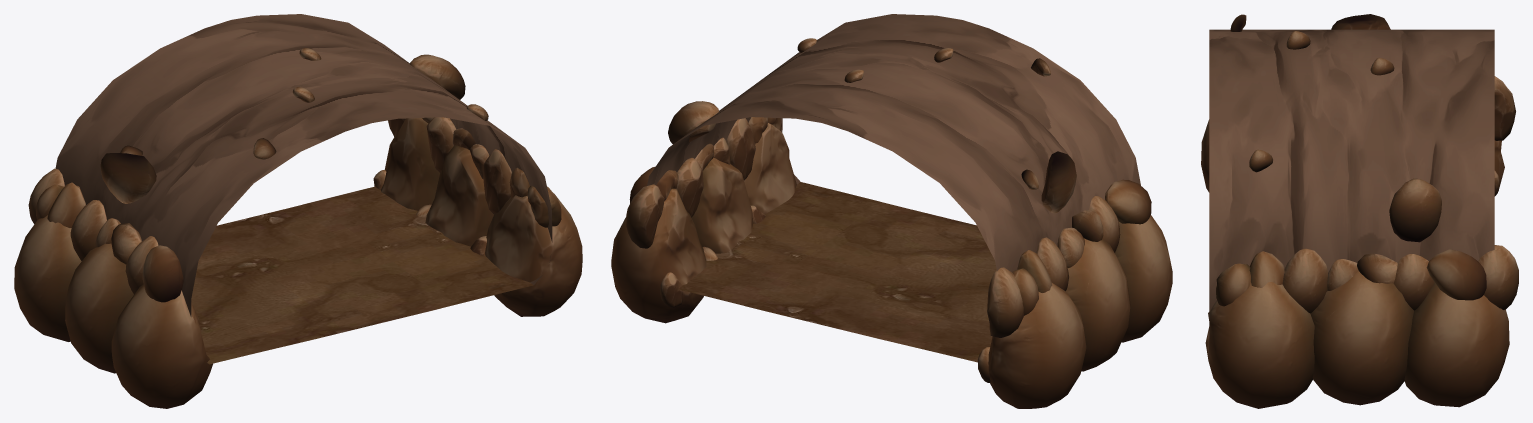
Rendered from TUNEL_TILE.fbx.
3 renders of one model, left to right at view 1: azimuth 30°, elevation 25°; view 2: azimuth 150°, elevation 25°; view 3: azimuth 270°, elevation 25°, orthographic.
Visible parts, largest first — view 1: Cylinder.004; view 2: Cylinder.004; view 3: Cylinder.004.
Boxes of the visible parts, bbox=[...] form: Cylinder.004: bbox=[14, 14, 582, 408]; Cylinder.004: bbox=[611, 14, 1172, 408]; Cylinder.004: bbox=[1201, 14, 1518, 408].
Bounding box in the file's own units: 820 × 449 × 483.
